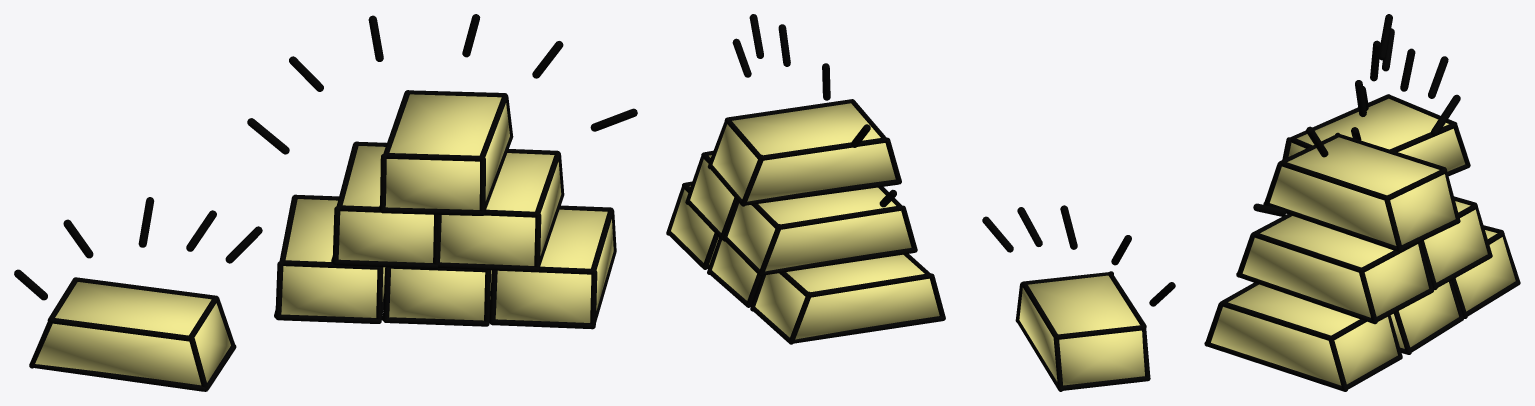
File: goldbar.glb
3 views of the same model, side by side, from view 1: azimuth 30°, elevation 25°; view 2: azimuth 150°, elevation 25°; view 3: azimuth 270°, elevation 25° (orthographic). The views are drawn at different scales.
Visible parts, largest first — view 1: goldbars; view 2: goldbars; view 3: goldbars.
Part boxes in pixels (box(x1,y1,x2,y2)): goldbars: box(14, 14, 637, 391); goldbars: box(666, 14, 1175, 391); goldbars: box(1204, 14, 1520, 391).
Size of the model in its own units: 3.01 by 1.34 by 1.51.
